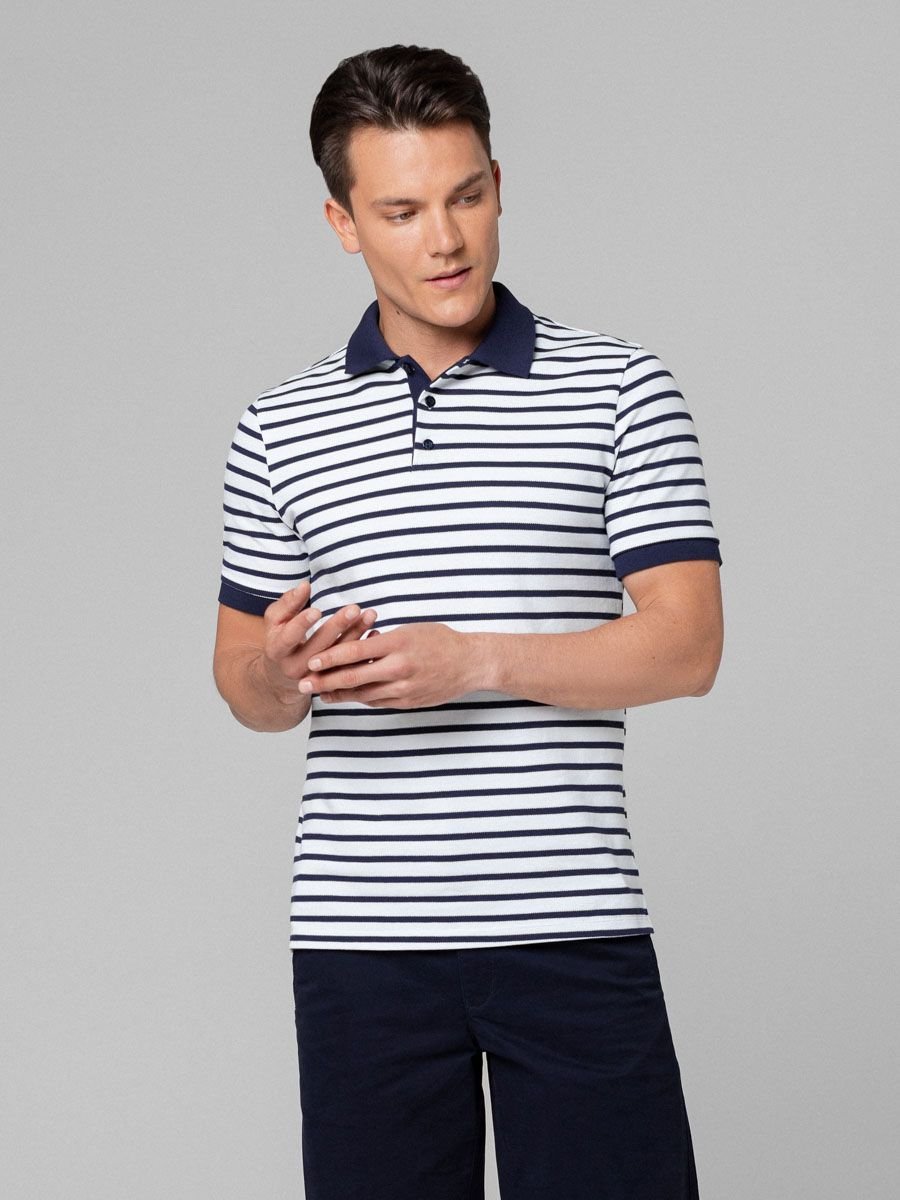striped: (205, 276, 734, 959)
